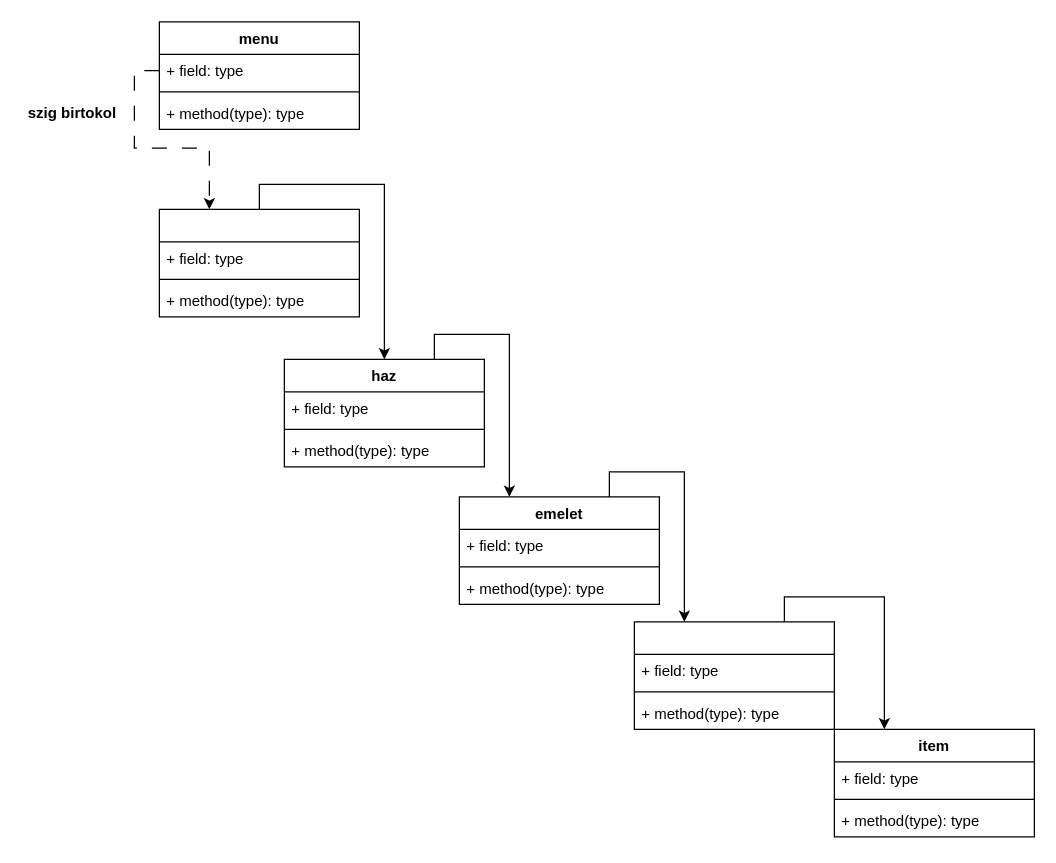
Image size: 1056x863. Some labels were removed from this diagram. The shapes that lost their labels are listed below. From the top down, each one's box as (x1, y1, x2, y2) in pixels, then its label:
(158, 208, 359, 317): park
(633, 621, 834, 729): szoba
